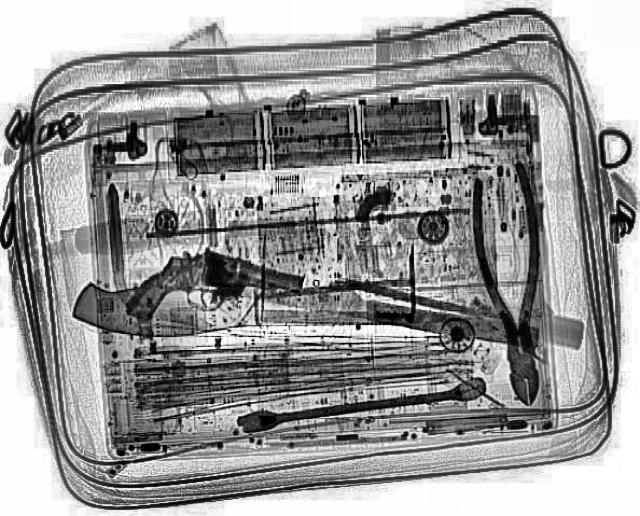Gun: (121, 237, 306, 351)
Knife: (70, 278, 384, 348)
Pliers: (463, 161, 559, 407)
